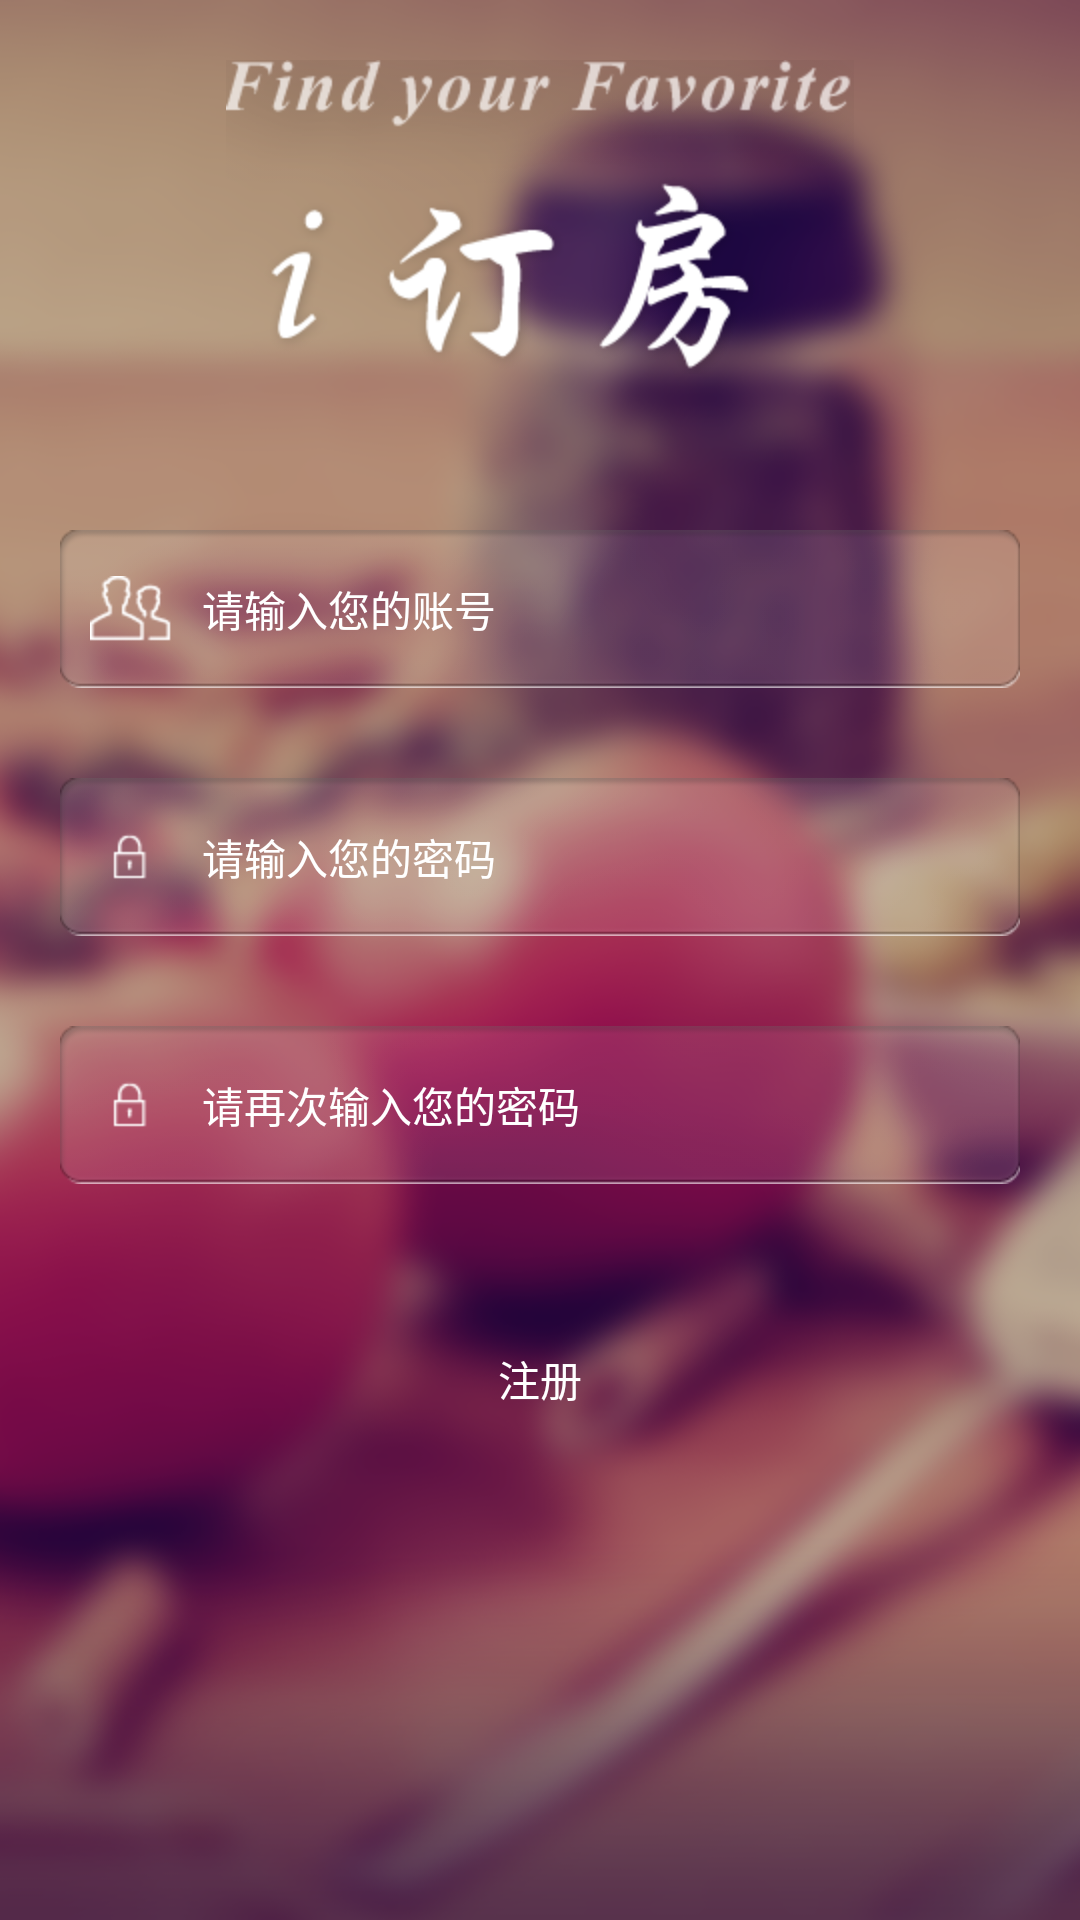

Screen size 1080×1920. Icon name, then its center in pixels as (x,y):
loginname: (116,609)
